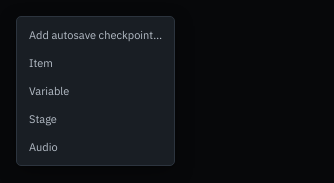
Test case: InkContextMenu › opens item operations in a compact hover flyout
Expected: the menu item "Give…" is not shown
Hover over the menu item "Item": (96, 63) [21,49,170,77]
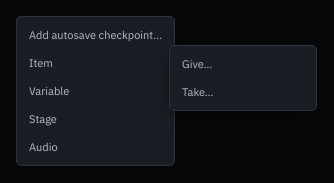
Result: the menu item "Give…" is shown at [174,50,312,78]
Result: the menu item "Take…" is shown at [174,78,312,106]
Result: the menu named "Item actions" is shown at [169,45,317,111]
